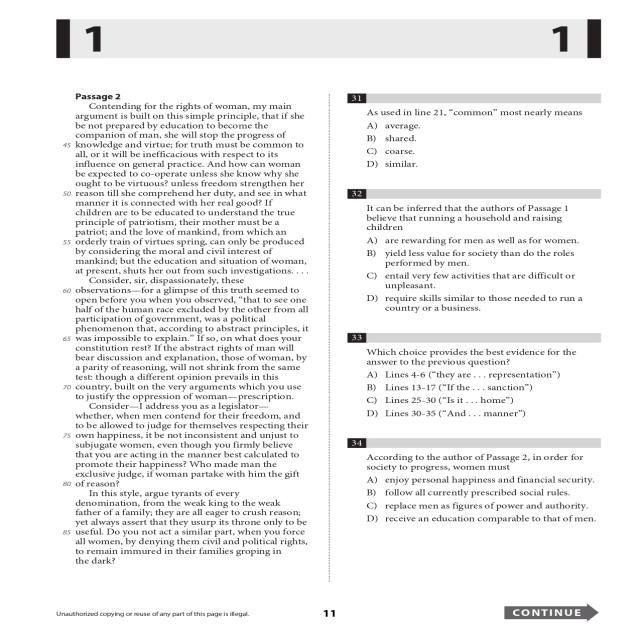Answer_Block: (334, 235, 610, 319), (334, 475, 610, 536), (334, 370, 610, 428), (334, 118, 608, 174)
Instruction: (61, 88, 322, 580)
Question_Answer_Block: (334, 184, 610, 319), (334, 326, 610, 428), (334, 434, 610, 536), (334, 86, 608, 174)
Question_Block: (334, 184, 610, 234), (334, 326, 610, 371), (334, 434, 610, 474), (334, 86, 608, 116)
Question_Paper_Area: (334, 87, 610, 577), (61, 88, 322, 580)
